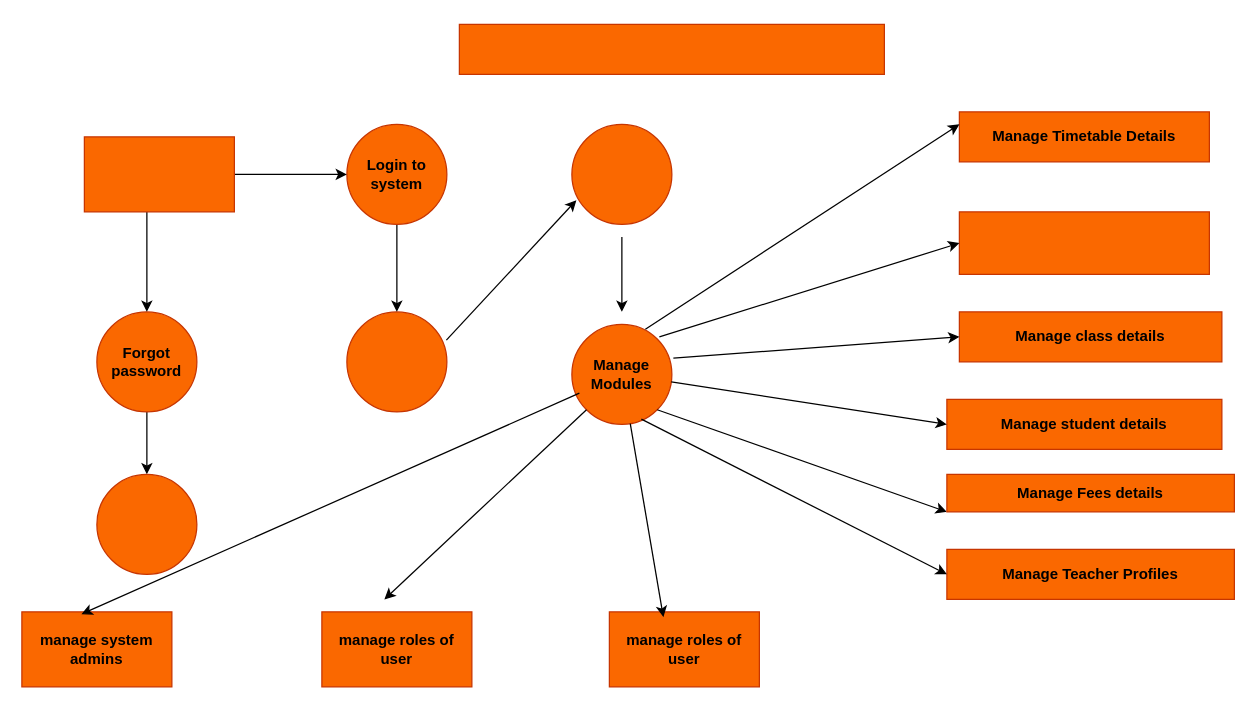
Image size: 1256x709. Some labels were removed from this diagram. The shapes that lost their labels are listed below. From the top down, each one's box as (x1, y1, x2, y2) in pixels, then its label:
(458, 23, 884, 74): Student Information System
(83, 136, 234, 212): Admin
(571, 123, 672, 224): Check Roles of Access
(958, 211, 1209, 274): Manage Attendance Details
(346, 311, 447, 412): Check credentials
(96, 473, 197, 574): Send Email to user
